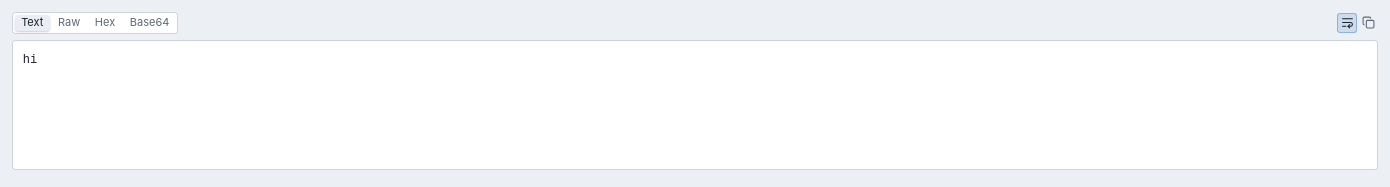
PayloadViewer › shows the bytes as base64 for anything
The width and height of the screenshot is (1390, 187).
Click the button "Base64" at (150, 23), box top-left (123, 15), bottom-right (176, 31)
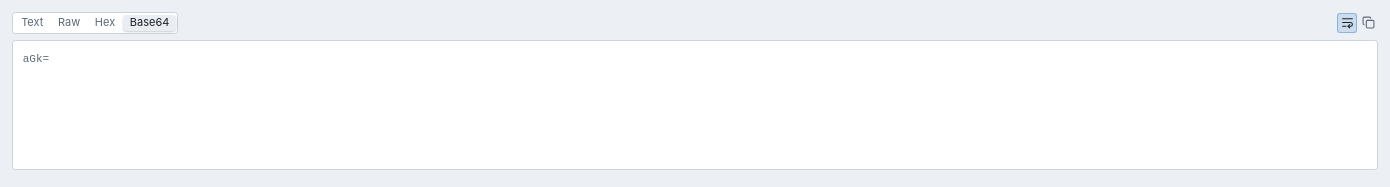
Check: the text "aGk=" is shown, box top-left (23, 53), bottom-right (49, 65)
